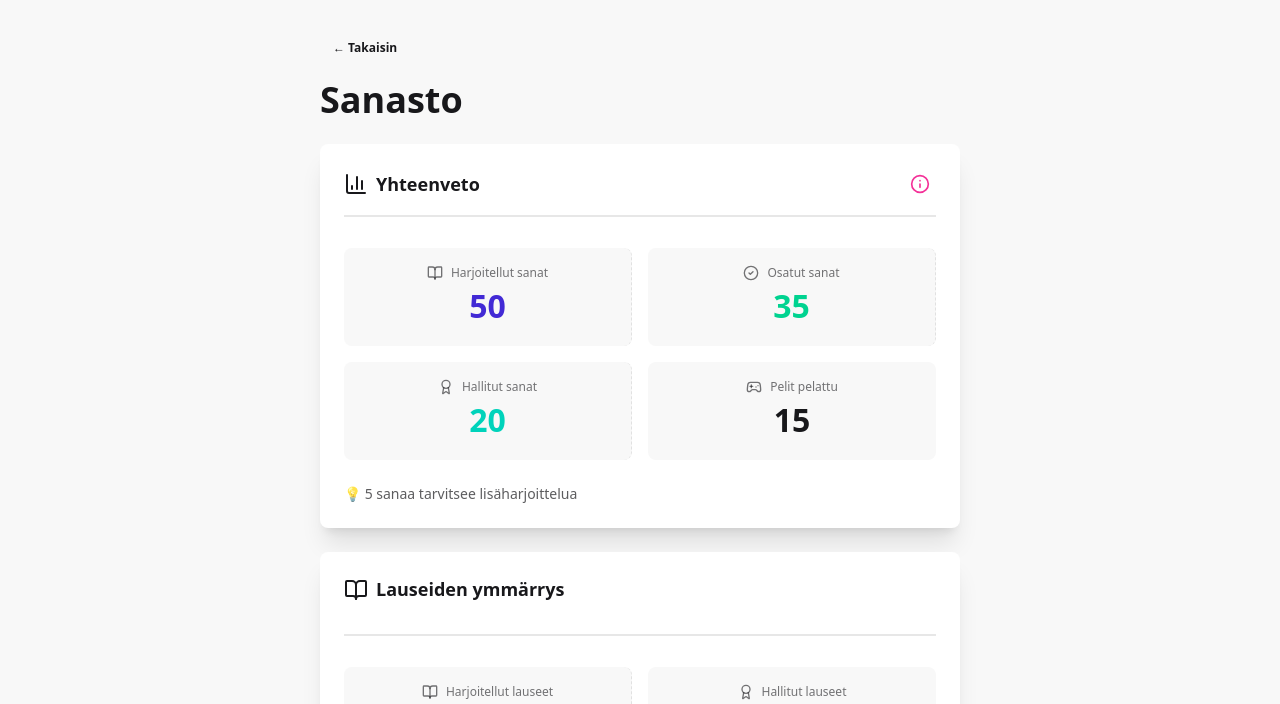
Sanasto Page › opens dialog when known words is clicked
Click the button "Osatut sanat 35" at [792, 297], box [648,248,936,346]
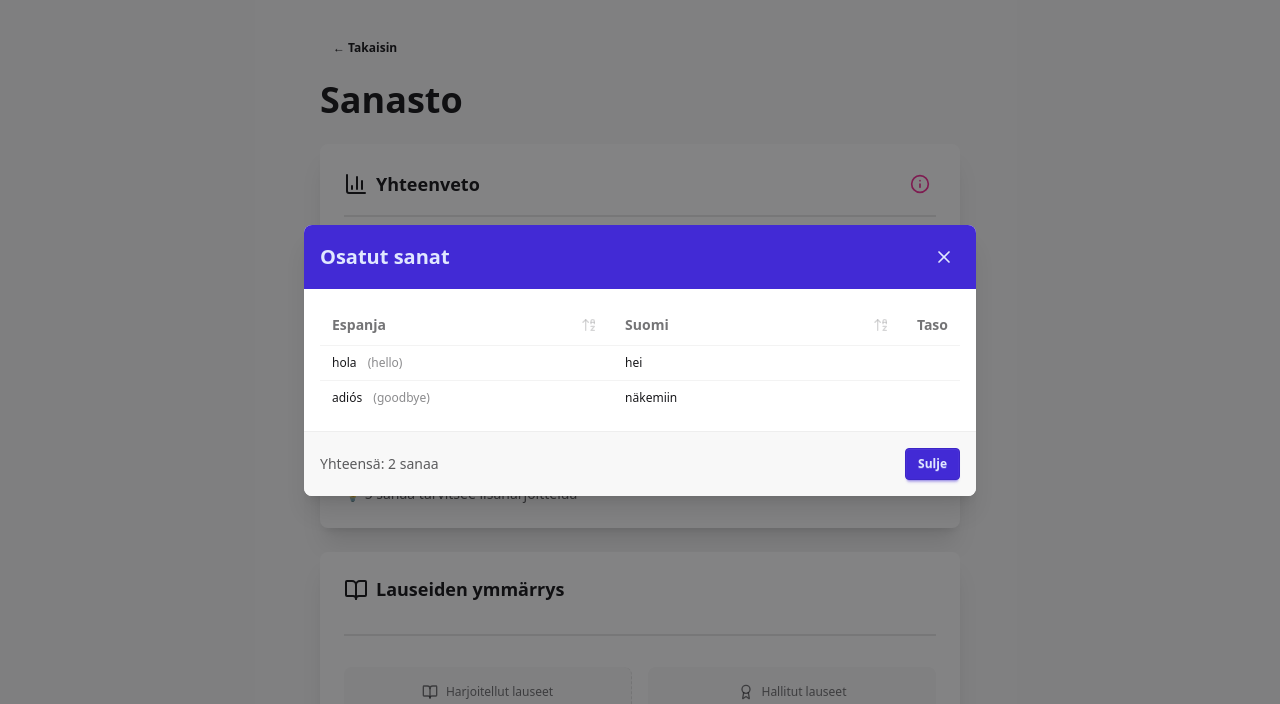
Check: the dialog is shown, box [304,224,976,496]
Check: the heading "Osatut sanat" is shown, box [320,242,450,270]
